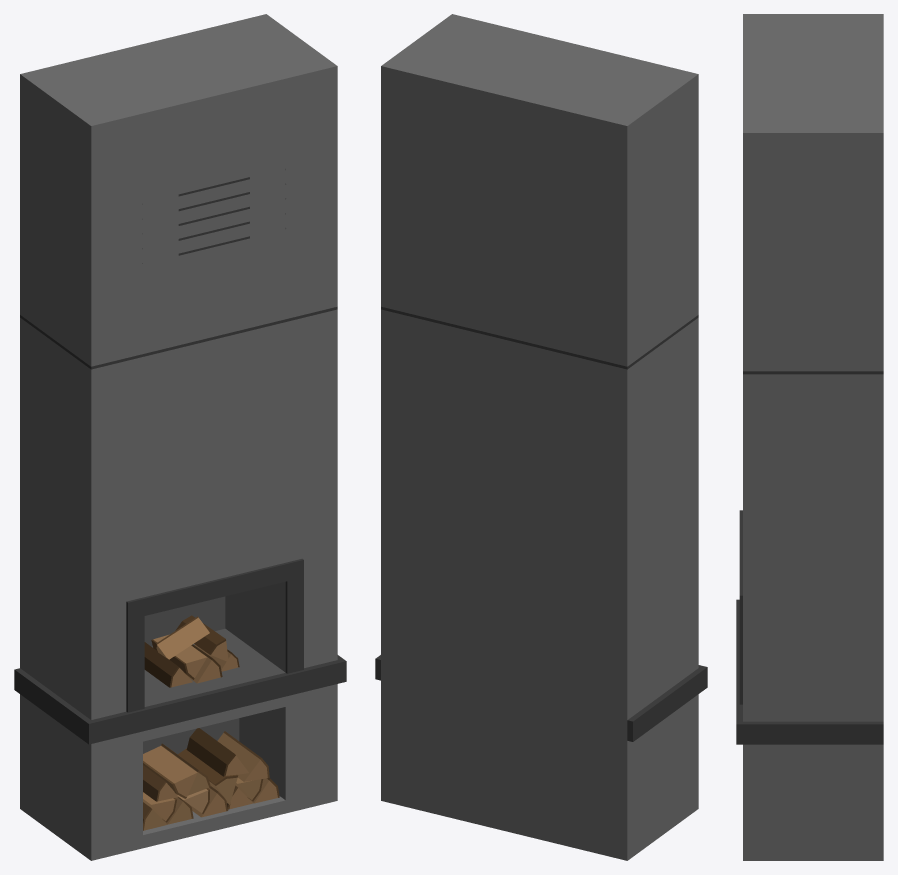
The model's file is Fireplace_02.fbx.
The picture shows the model from 3 angles, left to right: view 1: azimuth 30°, elevation 25°; view 2: azimuth 150°, elevation 25°; view 3: azimuth 270°, elevation 25°; orthographic projection.
Parts seen in each view (by area): view 1: Fireplace_02; view 2: Fireplace_02; view 3: Fireplace_02.
Boxes of the visible parts, x1,y1,x2,y2 form: Fireplace_02: (14,14,346,860); Fireplace_02: (375,14,707,860); Fireplace_02: (736,14,883,860).
Size of the model in its own units: 105 by 285 by 52.34.
